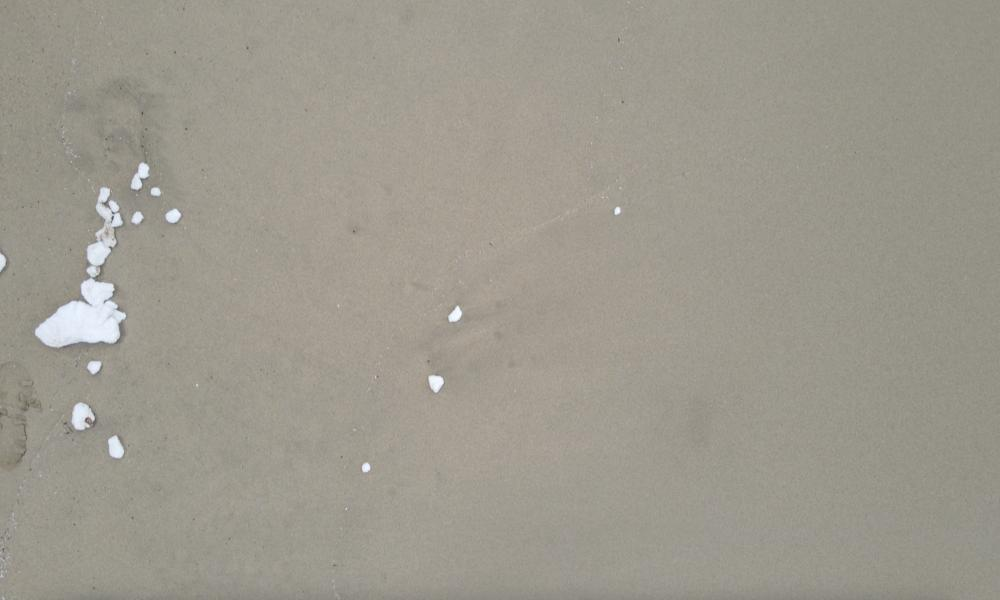styrofoam: (31, 295, 127, 350), (81, 240, 116, 304), (95, 183, 121, 244), (73, 400, 97, 432), (106, 434, 126, 459), (131, 160, 148, 186), (426, 372, 444, 390), (163, 207, 179, 223), (447, 304, 462, 321)
